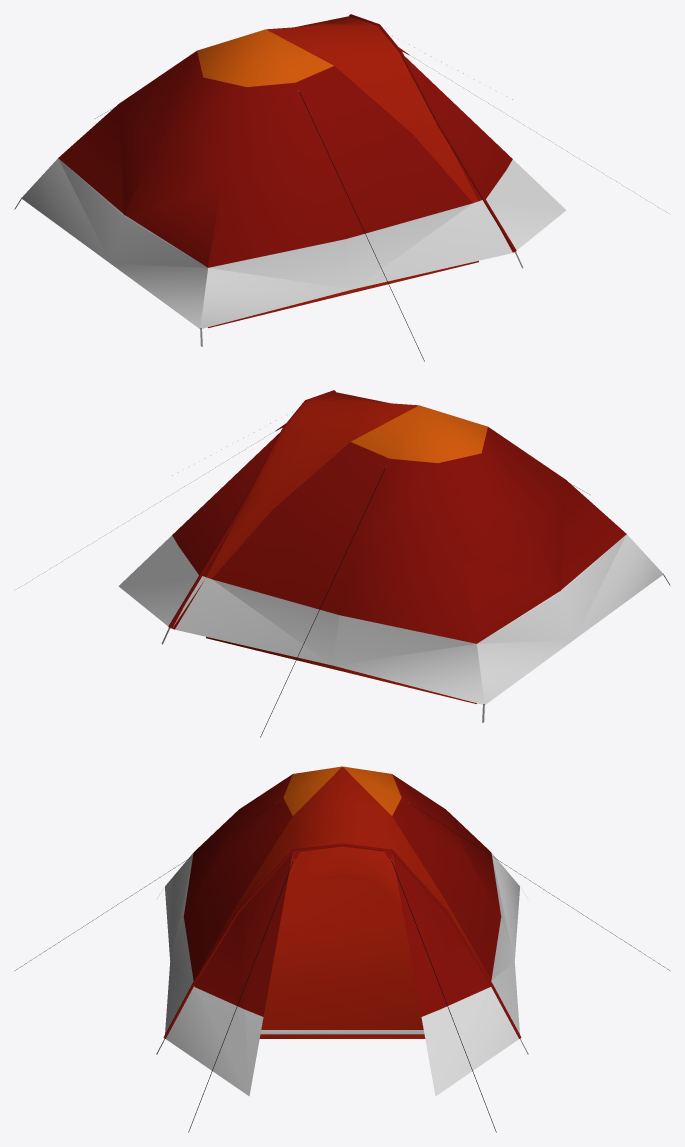
Rendered from Tent_Square_closed2.fbx.
The picture shows the model from 3 angles, top to bottom: view 1: azimuth 30°, elevation 25°; view 2: azimuth 150°, elevation 25°; view 3: azimuth 270°, elevation 25°; orthographic projection.
Parts seen in each view (by area): view 1: SM_Tent_Square_closed_LOD0; view 2: SM_Tent_Square_closed_LOD0; view 3: SM_Tent_Square_closed_LOD0.
Part boxes in pixels (x1,y1,x2,y2): SM_Tent_Square_closed_LOD0: (14,14,665,361); SM_Tent_Square_closed_LOD0: (19,390,670,737); SM_Tent_Square_closed_LOD0: (15,766,669,1132).
Bounding box in the file's own units: 141 × 58.45 × 167.
